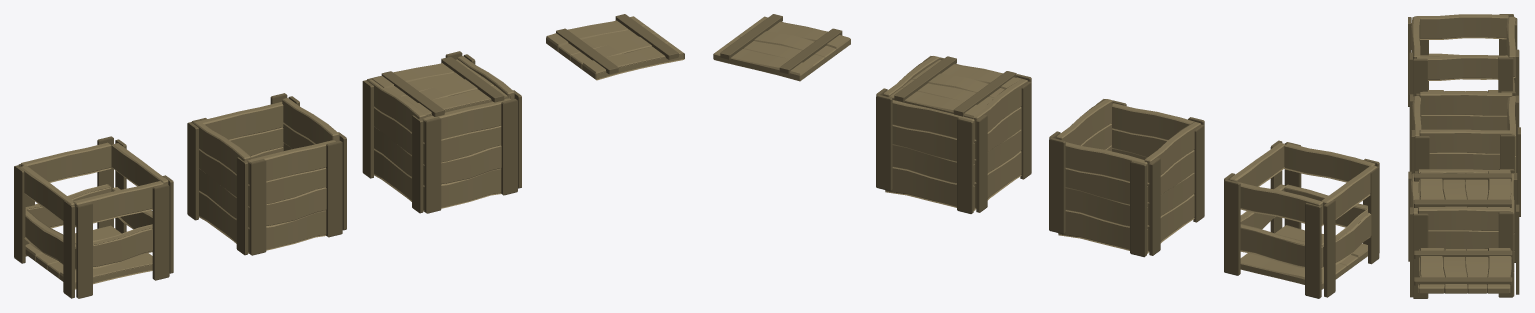
File: crates.fbx
3 renders of one model, left to right at view 1: azimuth 30°, elevation 25°; view 2: azimuth 150°, elevation 25°; view 3: azimuth 270°, elevation 25°, orthographic. The views are drawn at different scales.
Visible parts, largest first — view 1: pCube181, pCube214, pCube187, pCube182, pCube222, pCube210, pCube218, pCube209, pCube183, pCube211, pCube204, pCube184 (+21 smaller); view 2: pCube183, pCube213, pCube187, pCube182, pCube209, pCube222, pCube218, pCube181, pCube210, pCube211, pCube204, pCube184 (+18 smaller); view 3: pCube182, pCube187, pCube219, pCube184, pCube211, pCube218, pCube212, pCube227, pCube224, pCube216, pCube188, pCube189 (+27 smaller).
Part boxes in pixels (x1,y1,x2,y2): pCube181: (247,140,335,253); pCube214: (422,98,510,211); pCube187: (546,16,684,80); pCube182: (193,121,251,243); pCube222: (369,79,426,201); pCube210: (73,181,163,270); pCube218: (372,59,510,117); pCube209: (20,142,111,228); pCube183: (200,102,283,158); pCube211: (20,165,76,264); pCube204: (25,225,152,289); pCube184: (282,98,339,150); pCube183: (1058,142,1148,253); pCube213: (885,100,975,210); pCube187: (713,16,850,81); pCube182: (1144,122,1200,252); pCube209: (1236,181,1322,268); pCube222: (974,79,1027,209); pCube218: (889,59,1020,119); pCube181: (1111,103,1200,159); pCube210: (1284,143,1375,227); pCube211: (1321,165,1377,268); pCube204: (1240,225,1367,289); pCube184: (1056,99,1112,151); pCube182: (1419,91,1512,130); pCube187: (1418,248,1511,293); pCube219: (1418,207,1510,293); pCube184: (1419,129,1512,169); pCube211: (1416,14,1508,79); pCube218: (1417,170,1511,212); pCube212: (1416,55,1508,80); pCube227: (1413,213,1428,298); pCube224: (1414,199,1511,207); pCube216: (1498,212,1513,297); pCube188: (1414,277,1512,285); pCube189: (1414,250,1512,258).
Size of the model in its own units: 1068 by 162 by 186.
